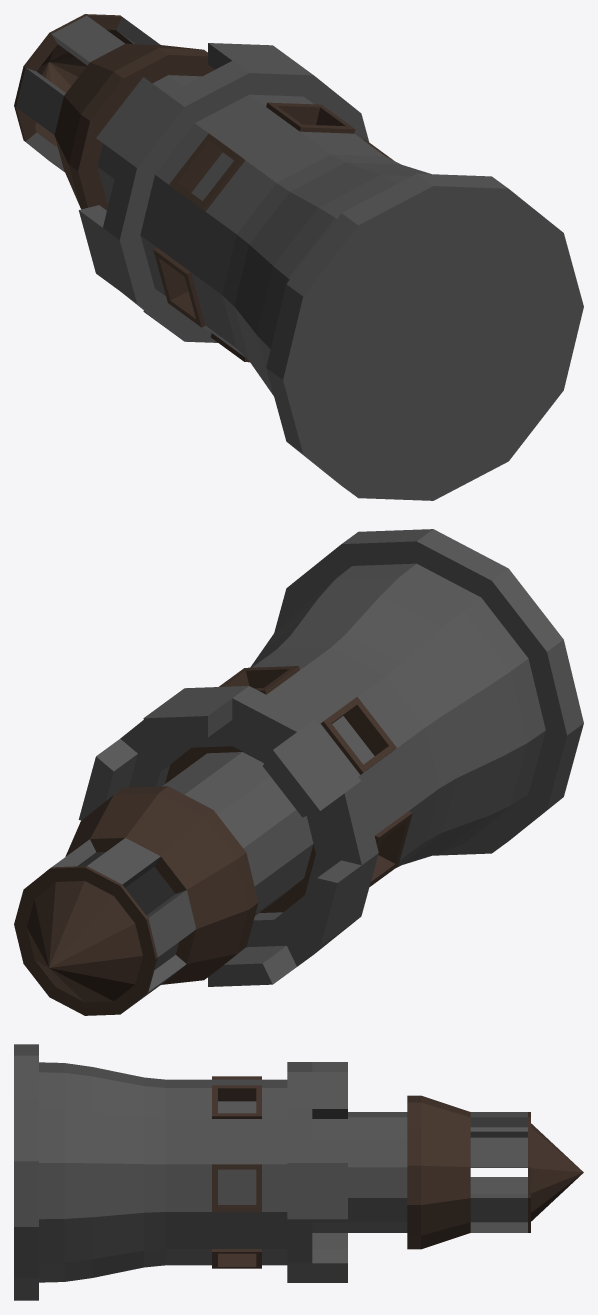
Rendered from tower3.fbx.
The picture shows the model from 3 angles, top to bottom: view 1: azimuth 30°, elevation 25°; view 2: azimuth 150°, elevation 25°; view 3: azimuth 270°, elevation 25°; orthographic projection. The views are drawn at different scales.
Parts seen in each view (by area): view 1: tower2; view 2: tower2; view 3: tower2.
Boxes of the visible parts, x1,y1,x2,y2 form: tower2: (14, 14, 583, 500); tower2: (14, 529, 583, 1015); tower2: (14, 1044, 583, 1300).
Size of the model in its own units: 187 by 187 by 415.
